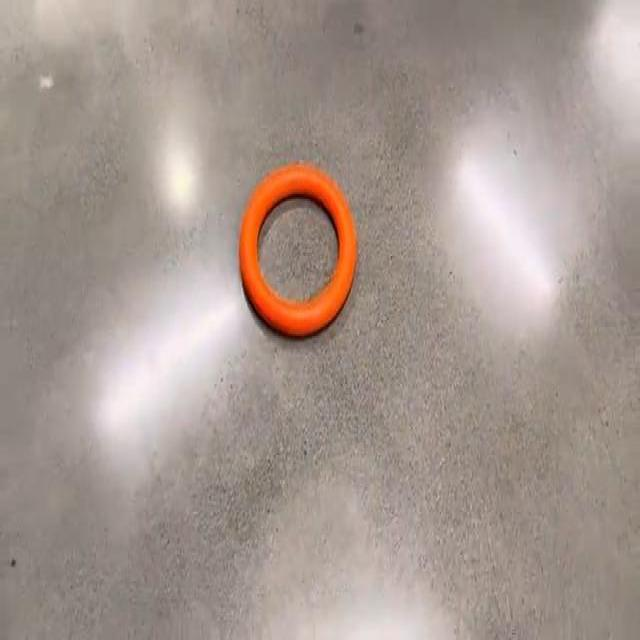note: (243, 165, 357, 336)
